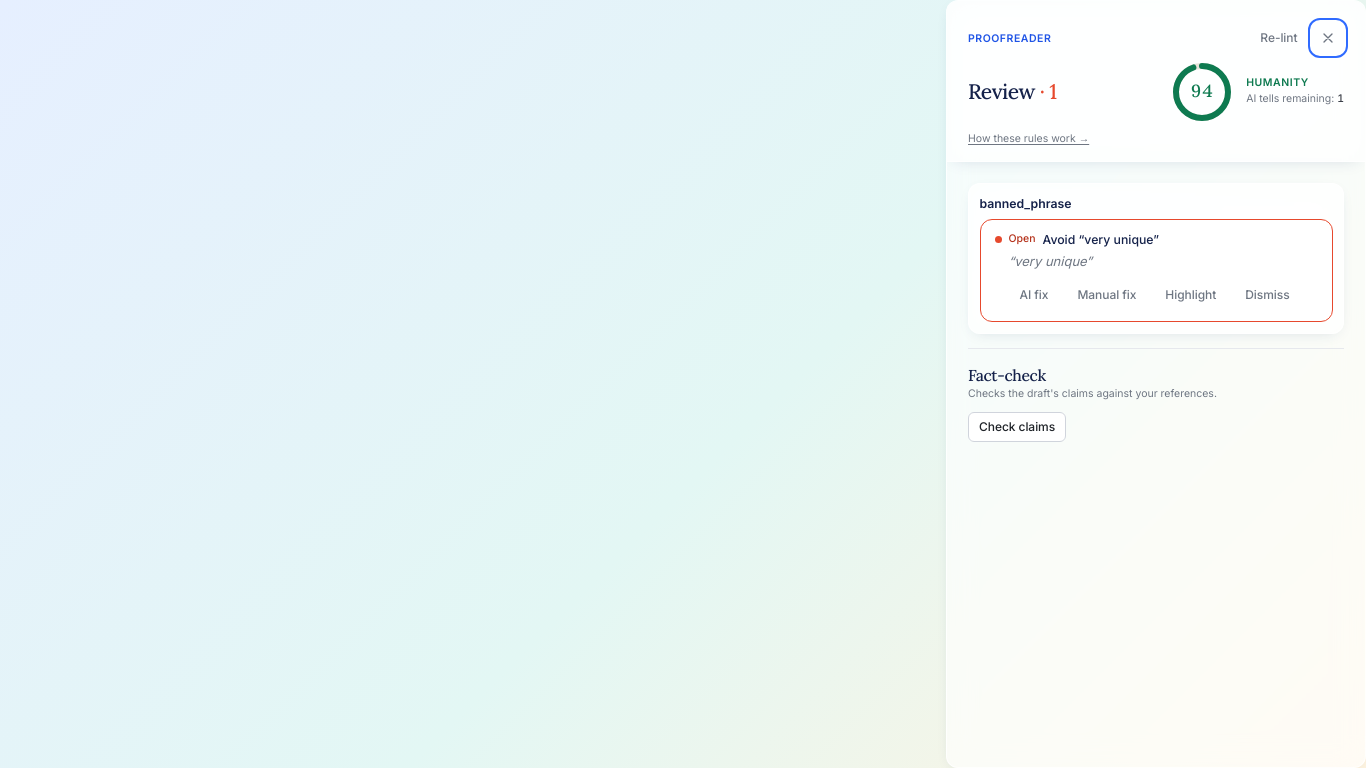
Test: LintPanel on the shared rail › offers Dismiss on every finding and hides it behind the show toggle
Check: the text "Avoid “very unique”" is shown, box [1042, 231, 1159, 248]
Click the button "Dismiss".
click(1267, 295)  # box [1234, 280, 1300, 311]
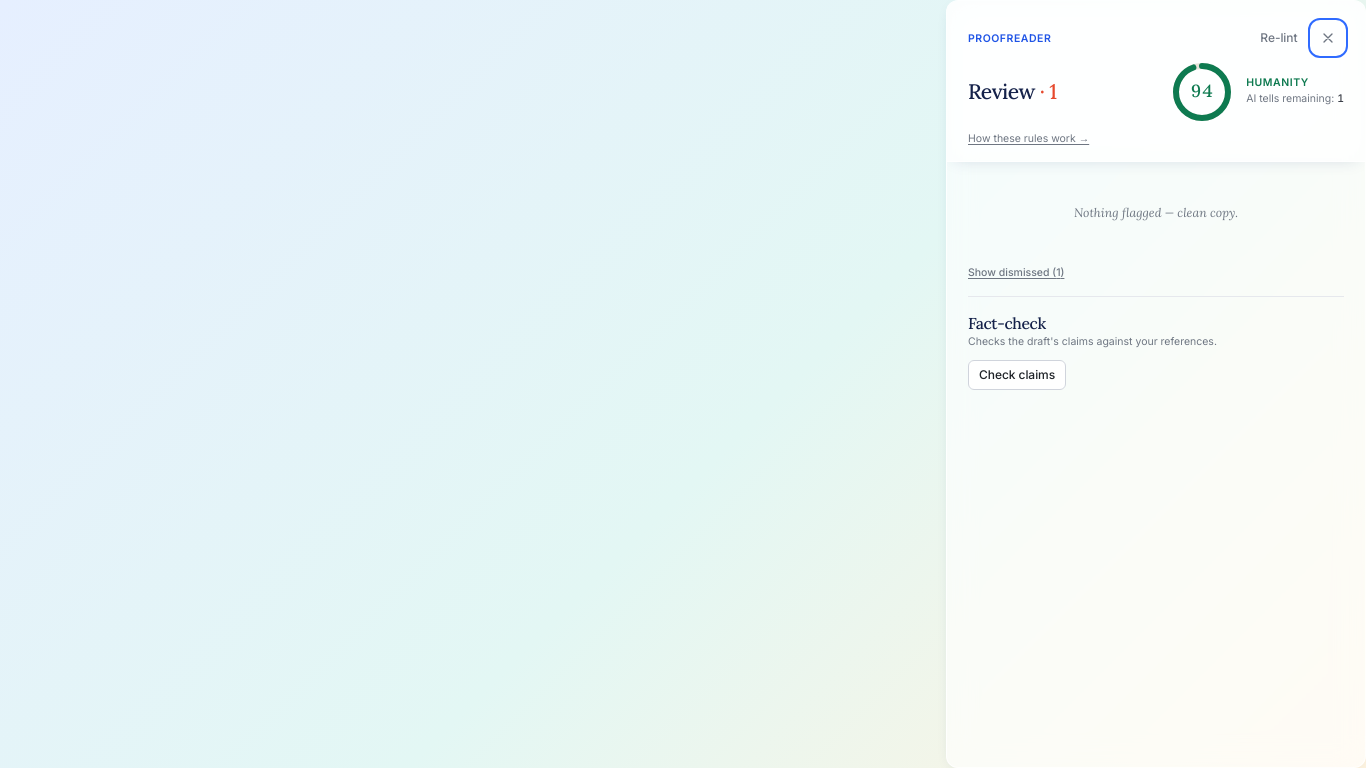
Check: the text "Avoid “very unique”" is gone
Check: the button "Show dismissed (1)" is shown, box [968, 266, 1064, 280]
